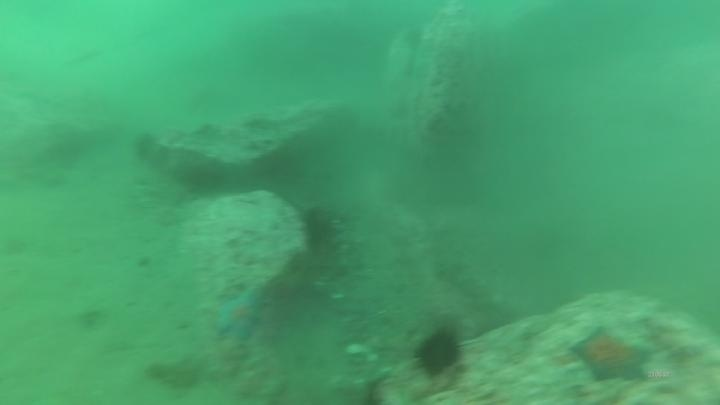echinus: (411, 325, 466, 380), (297, 204, 341, 254), (130, 130, 162, 165)
starfish: (566, 323, 656, 386), (212, 286, 269, 345)
